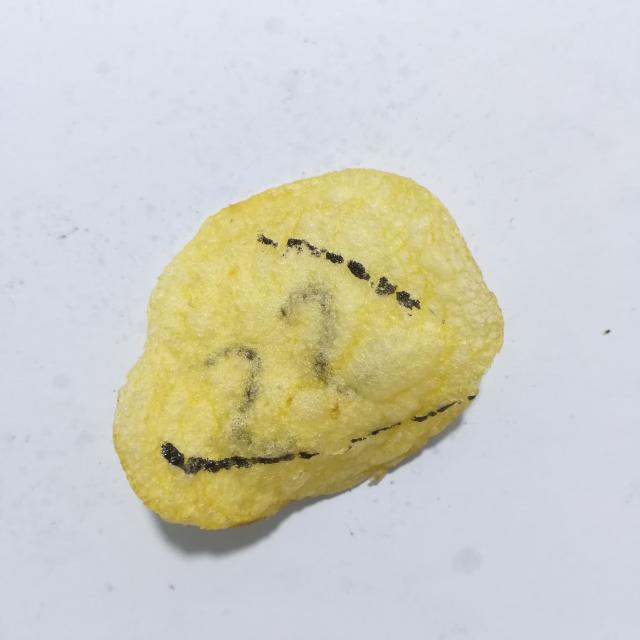chip: (113, 169, 503, 529)
damaged: (161, 442, 295, 475), (413, 402, 455, 421), (347, 260, 370, 280), (396, 291, 420, 309), (375, 277, 397, 295), (303, 240, 326, 257), (371, 423, 401, 435), (258, 234, 278, 248), (286, 238, 304, 252), (326, 252, 343, 263), (299, 452, 317, 459), (351, 437, 366, 443), (468, 395, 476, 400), (352, 440, 356, 442)
semi-damaged: (206, 345, 293, 458), (281, 282, 355, 398)
